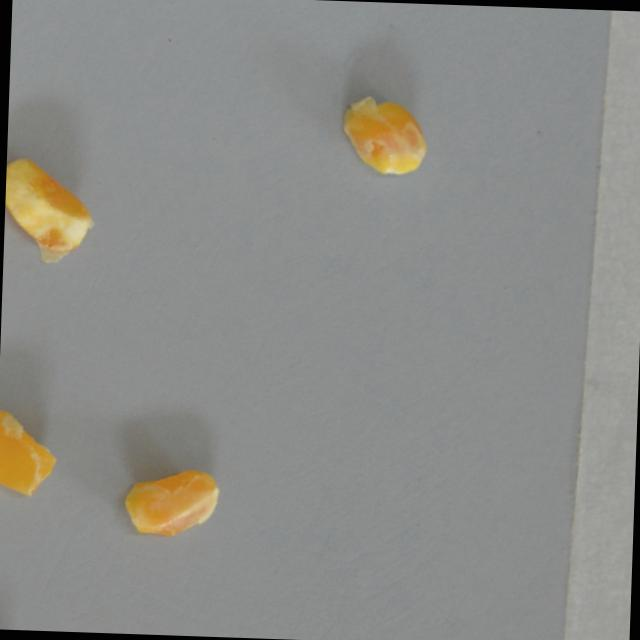pelicula: (2, 156, 96, 265), (115, 455, 224, 541), (340, 92, 425, 178), (0, 403, 58, 498), (3, 114, 16, 230)
